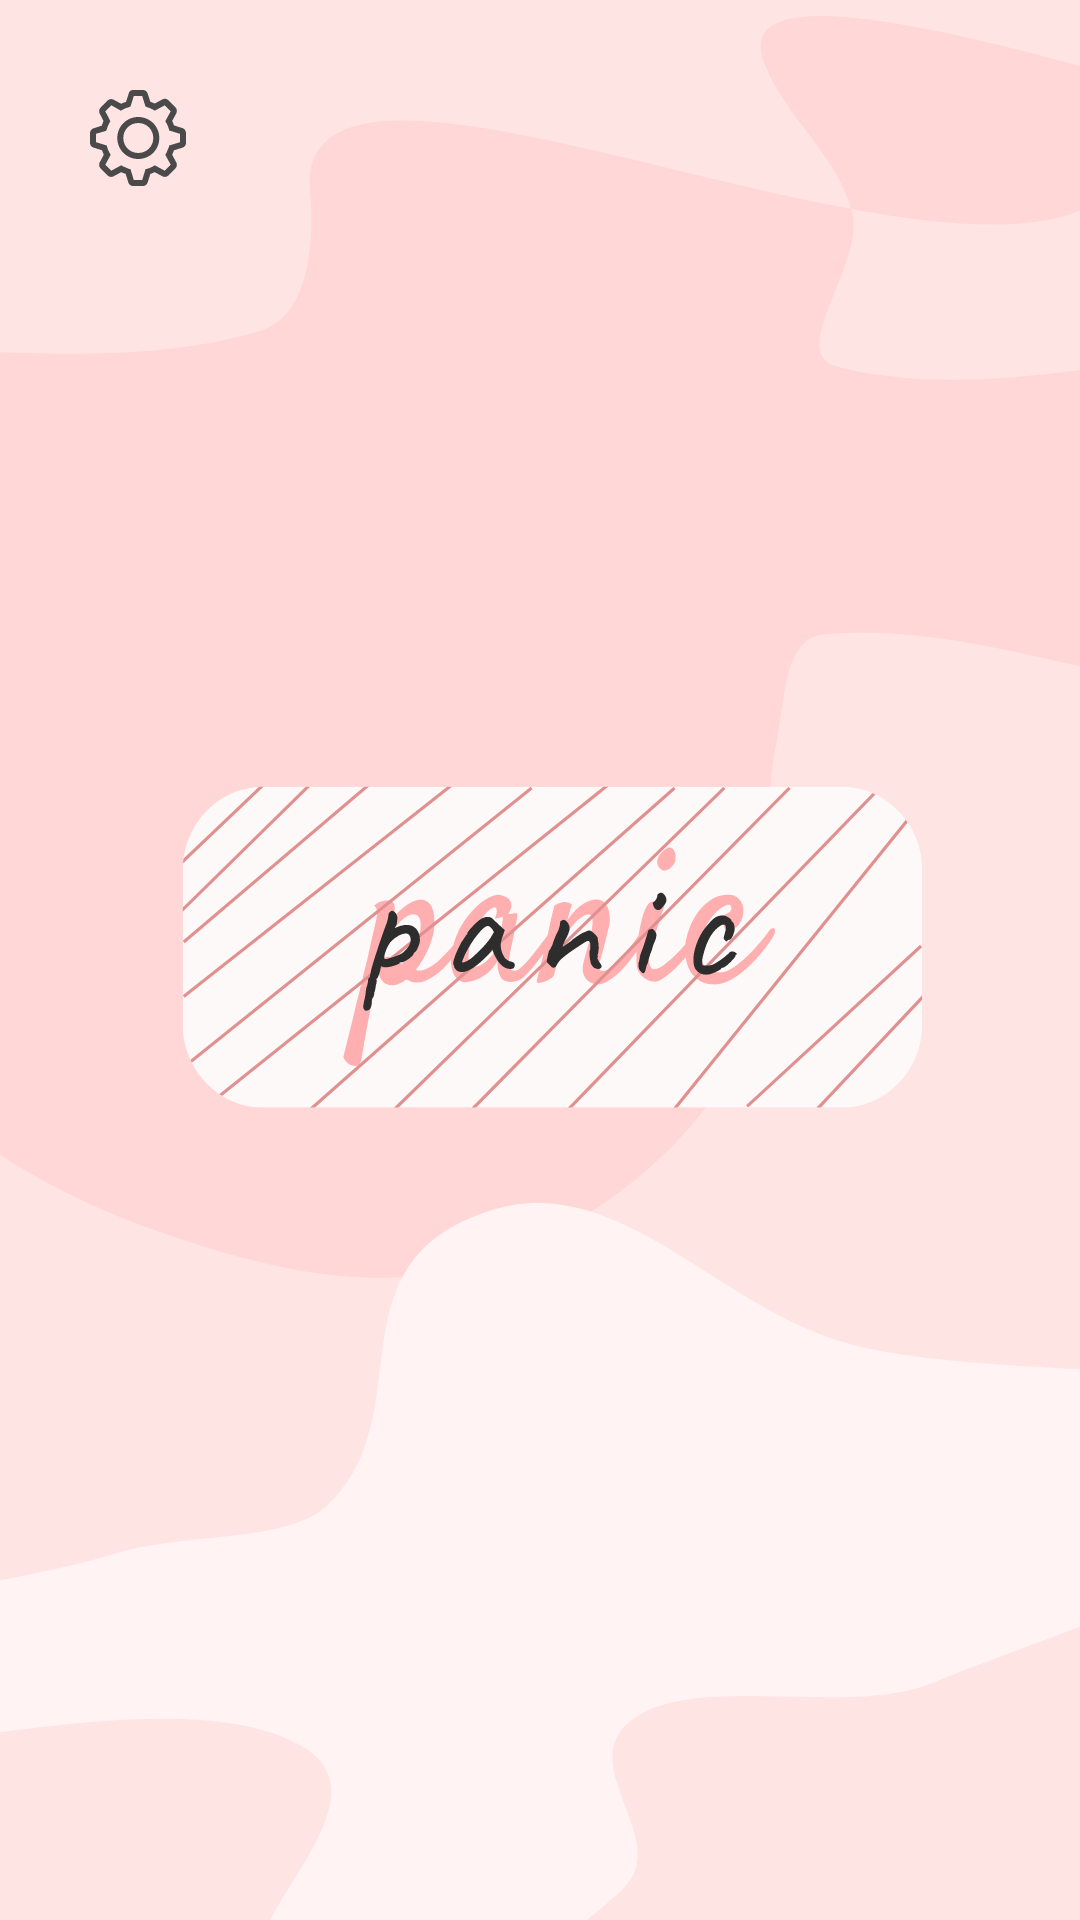

Icons on this 1080px×1920px Android screen, each with its box as (x1, y1, x2, y2):
settings: (90, 90, 186, 186)
